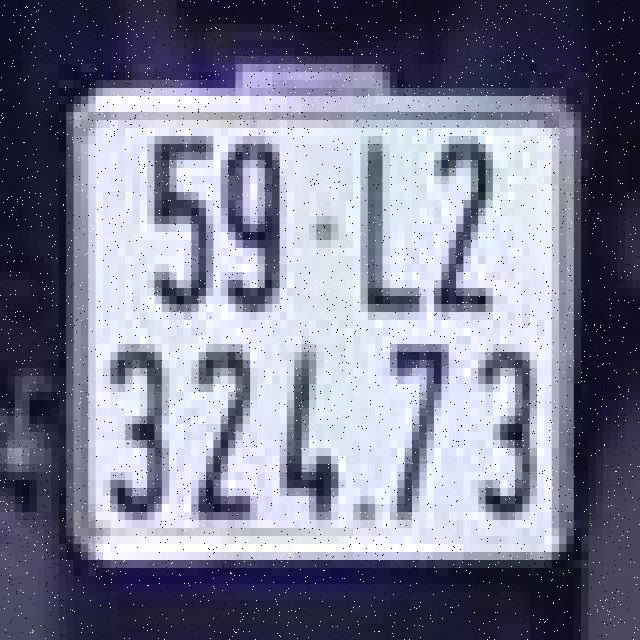2: (427, 120, 515, 320), (176, 336, 258, 520), (467, 344, 548, 528), (96, 332, 169, 532), (272, 340, 346, 524)
5: (136, 116, 224, 324)
7: (372, 332, 452, 532)
9: (224, 128, 298, 320)
L: (349, 128, 423, 312)
